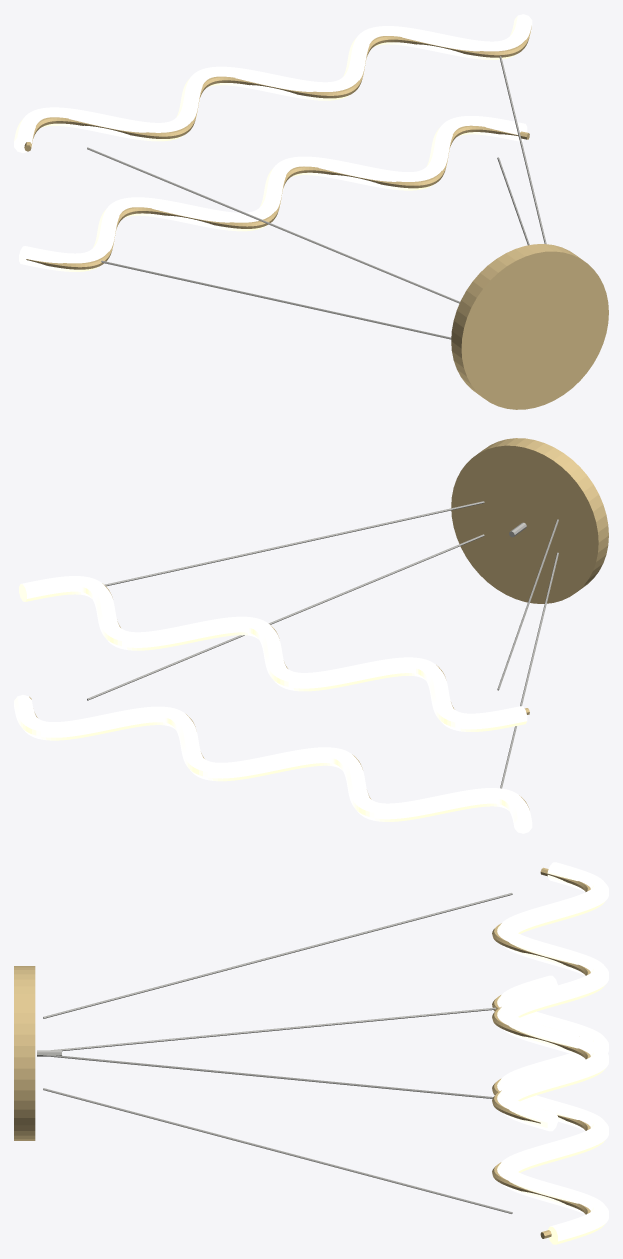
File: luxen.glb
3 views of the same model, one above another, from view 1: azimuth 30°, elevation 25°; view 2: azimuth 150°, elevation 25°; view 3: azimuth 270°, elevation 25° (orthographic). The views are drawn at different scales.
Parts seen in each view (by area): view 1: Ceiling_Canopy, luxen_LED_wave_0, luxen_LED_wave_1, luxen_metal_0, luxen_metal_1, Suspension_-0.78_0.2, Suspension_-0.78_-0.2; view 2: Ceiling_Canopy, luxen_LED_wave_1, luxen_LED_wave_0, Suspension_0.78_-0.2, Suspension_0.78_0.2, Suspension_-0.78_-0.2; view 3: luxen_LED_wave_0, luxen_LED_wave_1, Ceiling_Canopy, luxen_metal_0, Suspension_-0.78_0.2, Suspension_0.78_-0.2, Suspension_0.78_0.2, Suspension_-0.78_-0.2, luxen_metal_1.
Part boxes in pixels (x1,y1,x2,y2): Ceiling_Canopy: [451, 244, 608, 409]; luxen_LED_wave_0: [14, 14, 532, 152]; luxen_LED_wave_1: [19, 116, 527, 271]; luxen_metal_0: [24, 26, 531, 151]; luxen_metal_1: [26, 125, 529, 269]; Suspension_-0.78_0.2: [87, 147, 459, 303]; Suspension_-0.78_-0.2: [101, 260, 451, 339]; Ceiling_Canopy: [451, 438, 608, 603]; luxen_LED_wave_1: [14, 695, 532, 833]; luxen_LED_wave_0: [19, 576, 527, 731]; Suspension_0.78_-0.2: [87, 534, 484, 700]; Suspension_0.78_0.2: [104, 501, 484, 586]; Suspension_-0.78_-0.2: [500, 552, 558, 788]; luxen_LED_wave_0: [497, 862, 608, 1131]; luxen_LED_wave_1: [497, 975, 608, 1244]; Ceiling_Canopy: [14, 966, 35, 1140]; luxen_metal_0: [492, 867, 590, 1123]; Suspension_-0.78_0.2: [43, 893, 512, 1018]; Suspension_0.78_-0.2: [43, 1088, 512, 1213]; Suspension_0.78_0.2: [43, 1054, 493, 1098]; Suspension_-0.78_-0.2: [51, 1007, 495, 1051]; luxen_metal_1: [492, 995, 590, 1238].
Size of the model in its own units: 1.95 by 0.56 by 1.9.
